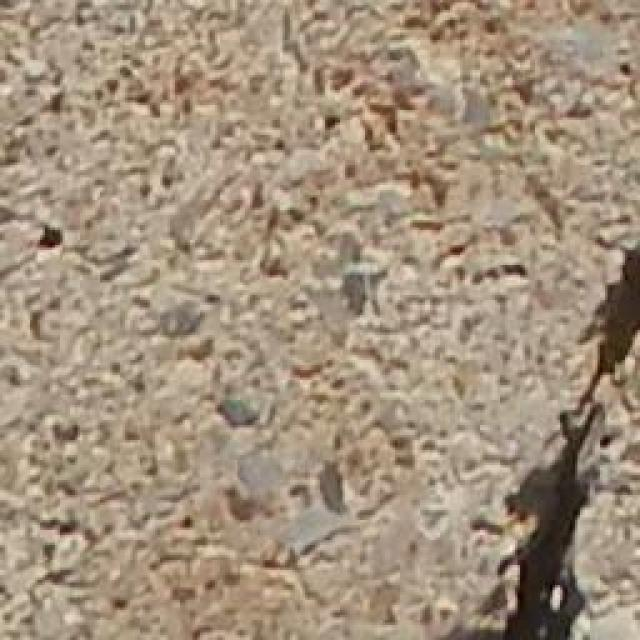concrete-crack: (487, 236, 640, 640)
